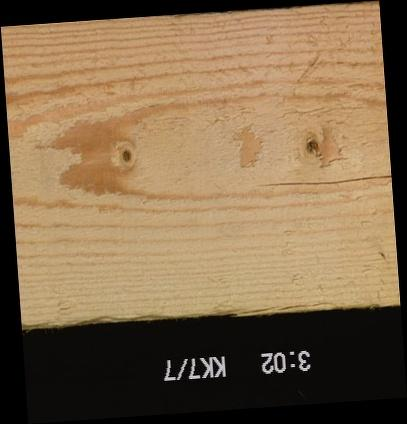small_knot: (121, 148, 132, 163)
sound_knot: (304, 129, 322, 160)
split: (255, 177, 390, 187)
